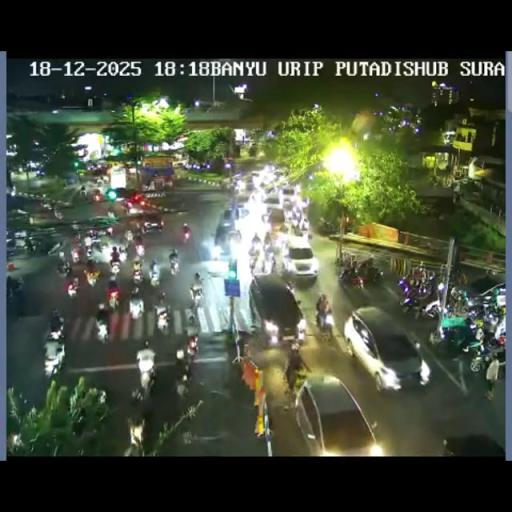Car: (290, 374, 382, 455), (346, 302, 432, 388), (246, 274, 306, 349), (189, 332, 234, 398), (282, 234, 318, 280), (214, 206, 246, 253), (122, 193, 160, 216), (262, 191, 282, 212), (102, 186, 128, 202), (280, 185, 298, 207), (235, 182, 251, 201), (250, 170, 262, 186)
Motorcycle: (60, 265, 190, 354), (59, 226, 123, 281), (186, 386, 228, 444), (398, 269, 440, 315), (463, 328, 505, 373), (447, 330, 470, 392), (464, 297, 502, 328), (285, 347, 309, 390), (132, 364, 155, 403), (124, 416, 146, 454), (6, 275, 25, 316), (234, 328, 253, 364), (32, 234, 62, 255), (359, 262, 384, 286), (450, 286, 470, 316), (316, 308, 334, 340), (95, 306, 111, 341), (154, 302, 170, 331), (46, 320, 66, 343), (184, 304, 199, 334), (129, 291, 144, 319), (176, 369, 190, 399), (263, 320, 279, 346), (261, 246, 276, 273), (142, 216, 164, 234), (6, 431, 24, 453), (84, 263, 101, 286), (294, 317, 308, 344), (189, 284, 203, 308), (411, 262, 426, 284), (126, 214, 144, 232), (318, 218, 338, 234), (248, 247, 261, 271), (56, 258, 71, 278), (107, 288, 120, 311), (109, 248, 121, 272), (90, 237, 106, 254), (453, 268, 467, 287), (168, 250, 179, 274), (6, 237, 19, 257), (350, 272, 364, 290), (149, 263, 160, 285), (186, 336, 198, 356), (290, 205, 302, 225), (66, 280, 78, 298), (70, 246, 82, 264), (133, 234, 144, 253), (132, 266, 143, 284), (342, 216, 353, 233), (156, 289, 166, 307), (96, 388, 106, 406), (298, 216, 309, 232), (210, 244, 221, 260), (25, 237, 35, 254), (123, 230, 134, 244), (84, 242, 94, 257), (263, 230, 272, 246), (92, 189, 103, 202), (286, 278, 296, 292), (53, 205, 63, 219), (71, 232, 81, 246), (182, 227, 190, 243), (78, 186, 87, 200), (175, 347, 184, 361), (104, 226, 114, 238), (261, 210, 270, 223), (58, 248, 66, 262), (106, 209, 116, 220), (95, 177, 103, 187), (194, 272, 202, 282)
